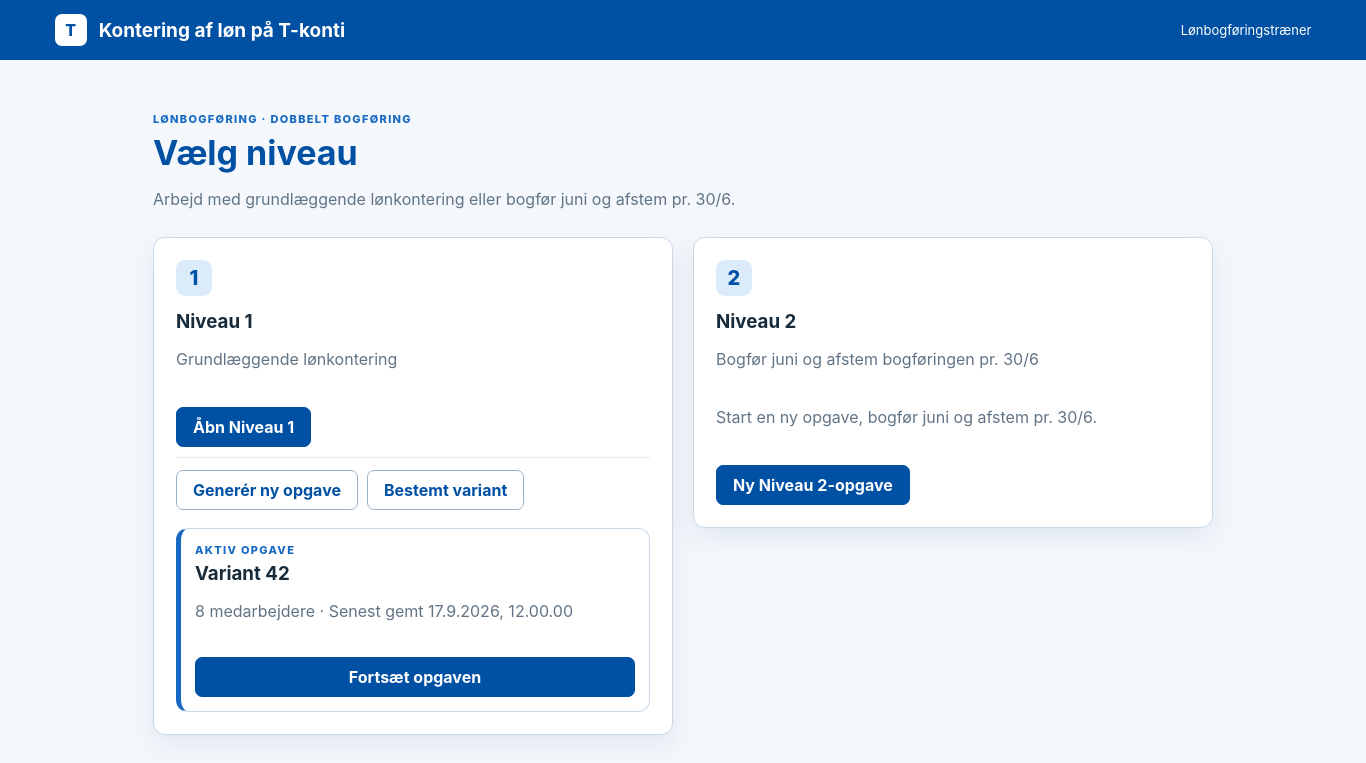
Scenario: Hovedmenu og exercise shell › viser aktiv session og fortsætter uden generatorcall
expect the text "AKTIV OPGAVE" is shown: met, box [195,543,295,557]
expect the heading "Variant 42" is shown: met, box [195,562,290,585]
Click the button "Fortsæt opgaven".
click(415, 677)  # box [195,657,635,697]
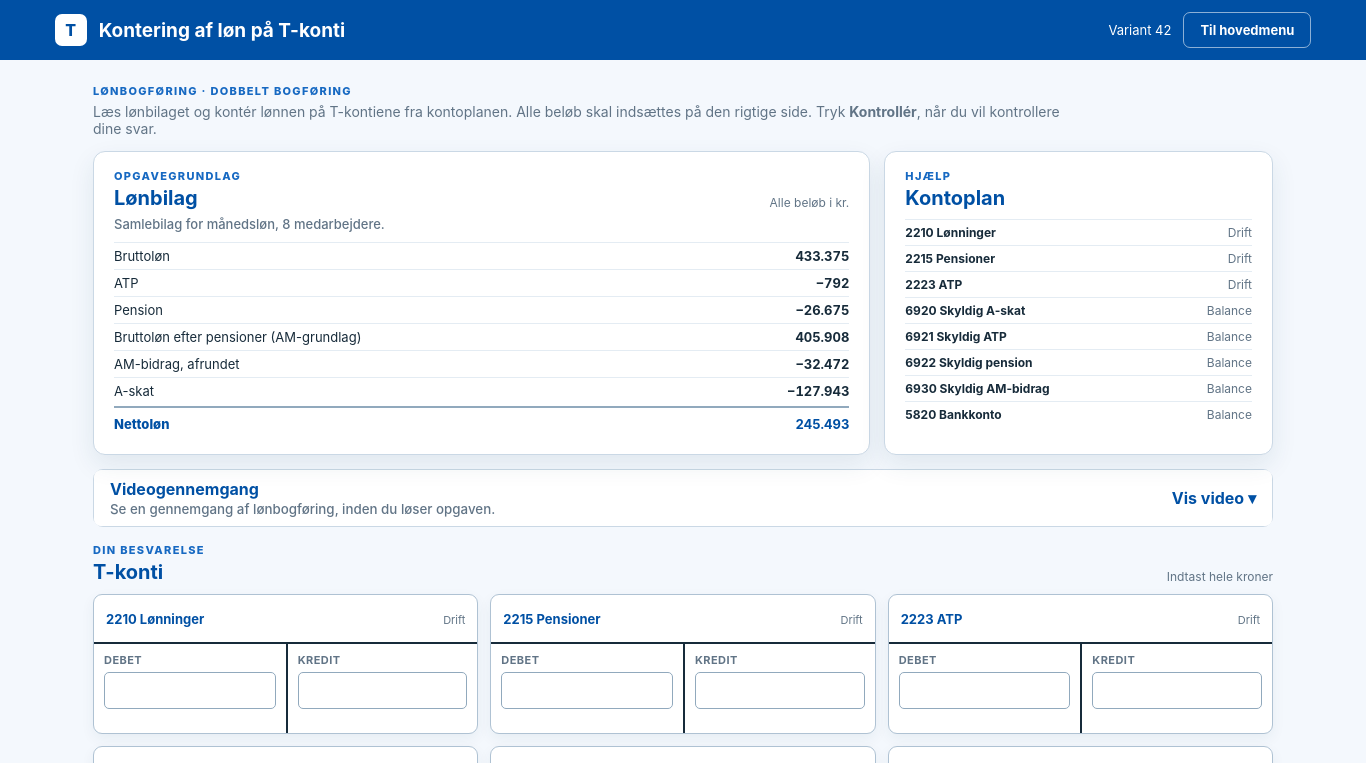
expect the heading named "Samlebilag for 8 medarbejdere" is shown: met, box [114,216,385,232]
